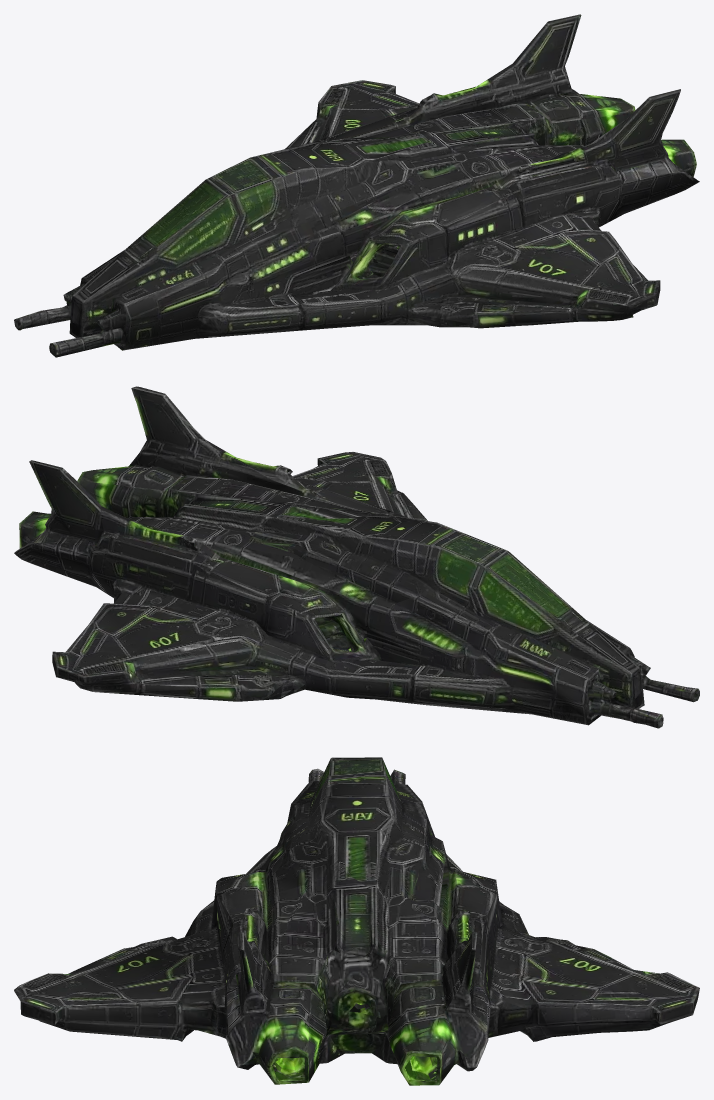
The model's file is slay.glb.
3 renders of one model, top to bottom at view 1: azimuth 30°, elevation 25°; view 2: azimuth 150°, elevation 25°; view 3: azimuth 270°, elevation 25°, orthographic. The views are drawn at different scales.
Visible parts, largest first — view 1: Mesh0; view 2: Mesh0; view 3: Mesh0.
Boxes of the visible parts, box(x1,y1,x2,y2) form: Mesh0: box(14, 14, 699, 357); Mesh0: box(14, 386, 699, 728); Mesh0: box(14, 757, 699, 1085).
Bounding box in the file's own units: 1.91 × 0.4719 × 1.59.
1 material, 1 textured.
